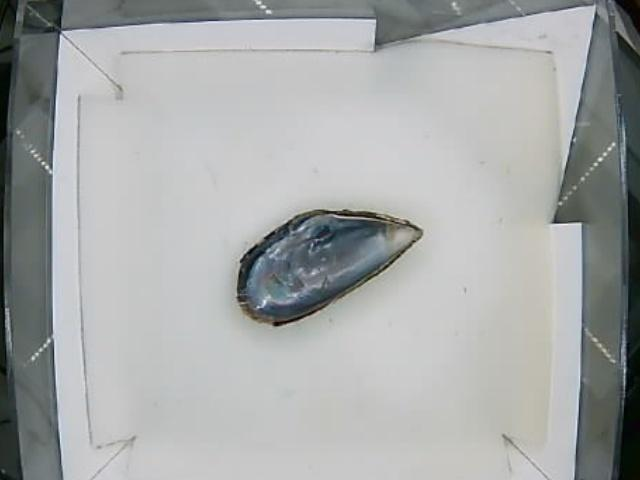Shell: (235, 207, 422, 333)
